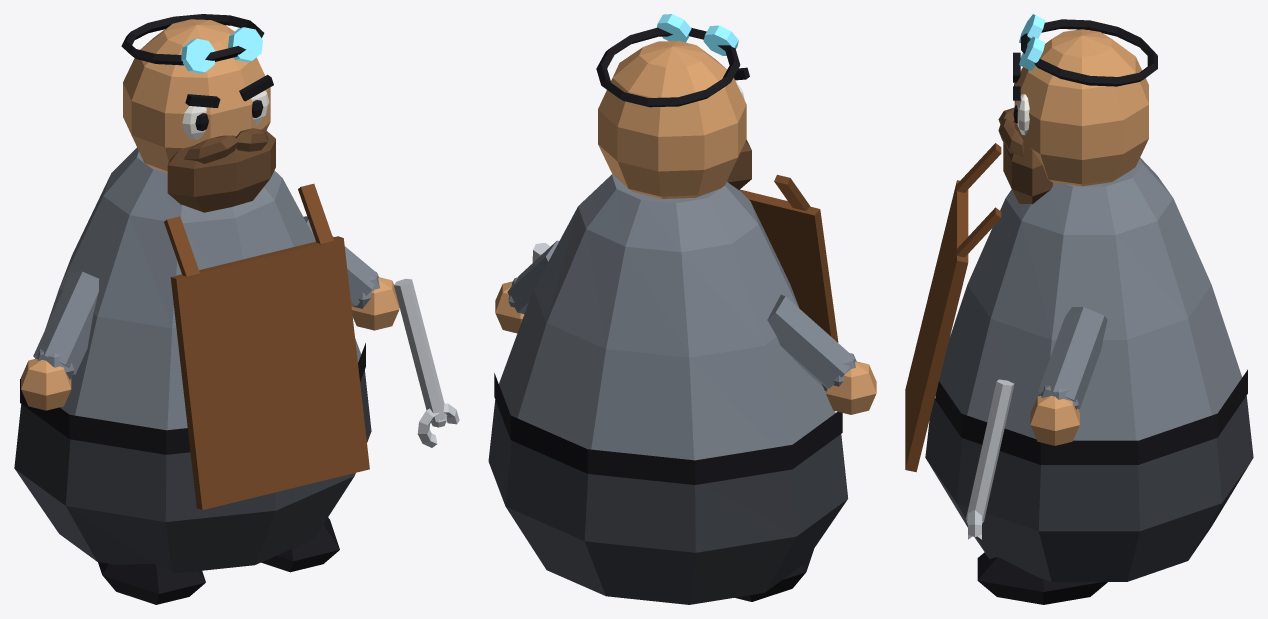
File: npc_armero.glb
3 views of the same model, side by side, from view 1: azimuth 30°, elevation 25°; view 2: azimuth 150°, elevation 25°; view 3: azimuth 270°, elevation 25° (orthographic). The views are drawn at different scales.
Parts seen in each view (by area): view 1: body_apron, body_work_shirt, body_work_pants, head_skin_arena, face_beard, arms_work_shirt, legs_black, body_black, arms_skin_arena, props_silver, head_black, head_goggles (+2 smaller); view 2: body_work_shirt, body_work_pants, head_skin_arena, body_black, body_apron, arms_work_shirt, head_black, arms_skin_arena, head_goggles, face_beard, legs_black; view 3: body_work_shirt, body_work_pants, head_skin_arena, body_apron, body_black, arms_work_shirt, legs_black, props_silver, face_beard, head_black, arms_skin_arena, head_goggles.
Boxes of the visible parts, <box> form: body_apron: <box>164,183,369,509</box>; body_work_shirt: <box>45,147,361,430</box>; body_work_pants: <box>14,370,371,572</box>; head_skin_arena: <box>123,19,270,172</box>; face_beard: <box>167,128,275,212</box>; arms_work_shirt: <box>33,216,379,379</box>; legs_black: <box>98,517,339,604</box>; body_black: <box>20,343,365,454</box>; arms_skin_arena: <box>21,277,399,410</box>; props_silver: <box>394,278,459,447</box>; head_black: <box>121,14,264,65</box>; head_goggles: <box>181,27,262,73</box>; body_work_shirt: <box>499,174,835,460</box>; body_work_pants: <box>488,400,848,604</box>; head_skin_arena: <box>598,41,746,198</box>; body_black: <box>494,373,842,484</box>; body_apron: <box>739,174,838,342</box>; arms_work_shirt: <box>507,240,856,390</box>; head_black: <box>596,27,740,107</box>; arms_skin_arena: <box>495,281,876,414</box>; head_goggles: <box>657,14,738,55</box>; face_beard: <box>727,139,751,189</box>; legs_black: <box>734,549,813,601</box>; body_work_shirt: <box>939,157,1242,440</box>; body_work_pants: <box>925,396,1253,581</box>; head_skin_arena: <box>1014,29,1148,186</box>; body_apron: <box>905,143,1001,472</box>; body_black: <box>934,369,1247,464</box>; arms_work_shirt: <box>1038,307,1107,409</box>; legs_black: <box>977,552,1107,604</box>; props_silver: <box>966,379,1014,539</box>; face_beard: <box>998,107,1052,204</box>; head_black: <box>1021,19,1157,86</box>; arms_skin_arena: <box>1030,395,1079,445</box>; head_goggles: <box>1019,14,1045,70</box>.
Size of the model in its own units: 1.19 by 1.56 by 0.9123.
